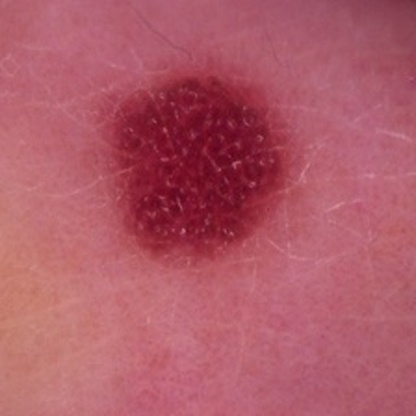benign: (114, 87, 275, 253)
